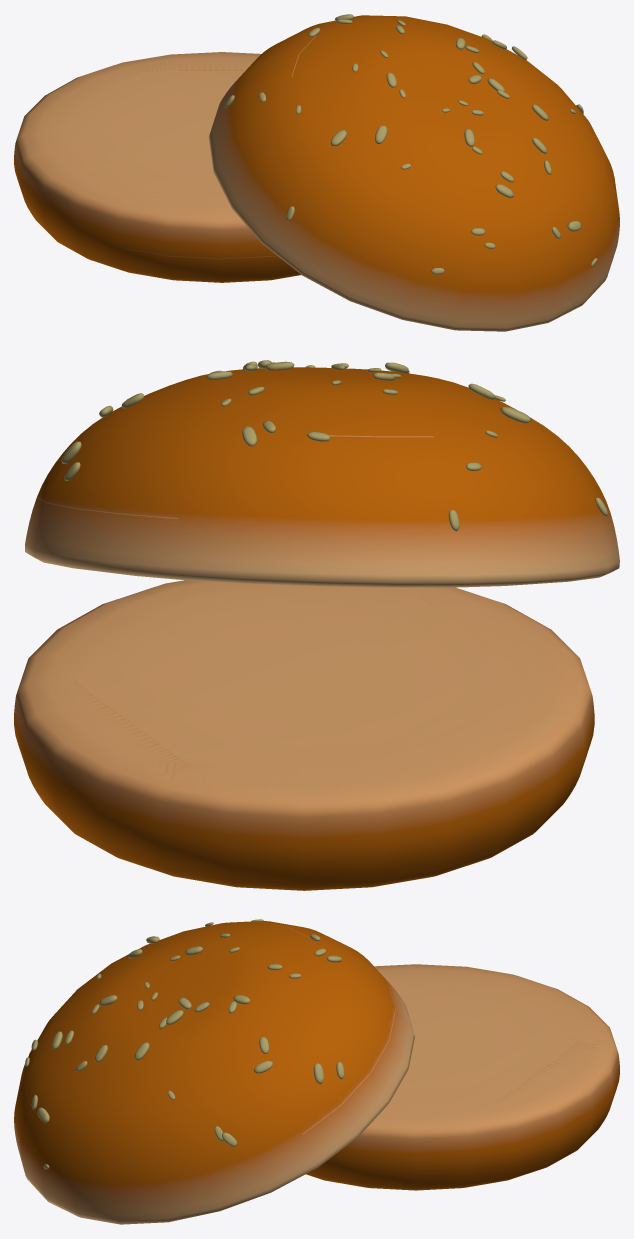
Rendered from bread.glb.
3 views of the same model, one above another, from view 1: azimuth 30°, elevation 25°; view 2: azimuth 150°, elevation 25°; view 3: azimuth 270°, elevation 25° (orthographic). The views are drawn at different scales.
Parts seen in each view (by area): view 1: bun-top, bun-bottom, seed; view 2: bun-bottom, bun-top, seed; view 3: bun-top, bun-bottom, seed.
Boxes of the visible parts, <box> form: bun-top: <box>208,15,619,331</box>; bun-bottom: <box>14,52,300,282</box>; seed: <box>225,14,597,274</box>; bun-bottom: <box>14,580,594,890</box>; bun-top: <box>25,367,619,587</box>; seed: <box>61,360,608,531</box>; bun-top: <box>14,921,414,1224</box>; bun-bottom: <box>306,964,619,1190</box>; seed: <box>25,919,344,1169</box>.
Size of the model in its own units: 1.42 by 0.6427 by 1.68.
3 materials, 2 textured.
